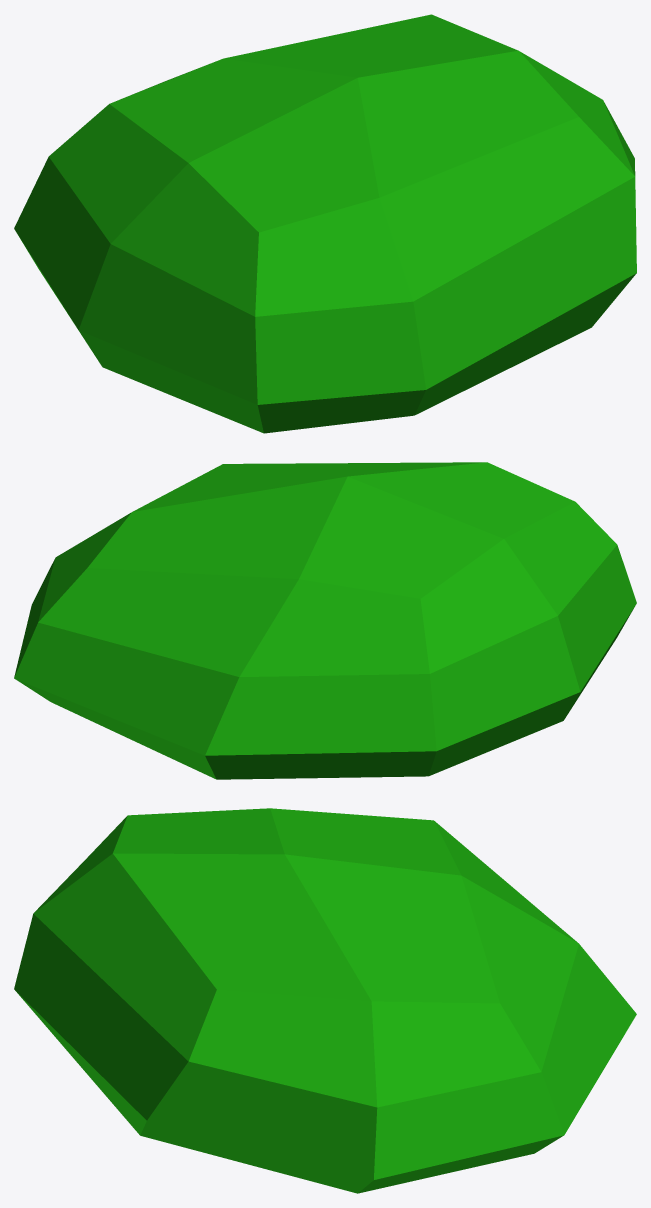
The model's file is Bush3.fbx.
3 views of the same model, one above another, from view 1: azimuth 30°, elevation 25°; view 2: azimuth 150°, elevation 25°; view 3: azimuth 270°, elevation 25° (orthographic). The views are drawn at different scales.
Parts seen in each view (by area): view 1: Cube.001; view 2: Cube.001; view 3: Cube.001.
Boxes of the visible parts, x1,y1,x2,y2 form: Cube.001: [14, 14, 636, 433]; Cube.001: [14, 462, 636, 779]; Cube.001: [14, 808, 636, 1193].
Size of the model in its own units: 3.83 by 1.4 by 3.73.
